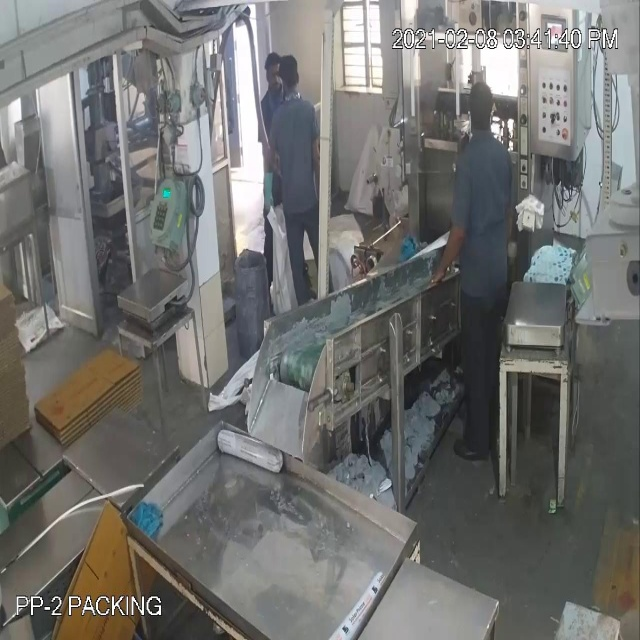Sin_guantes: (425, 217, 466, 295)
